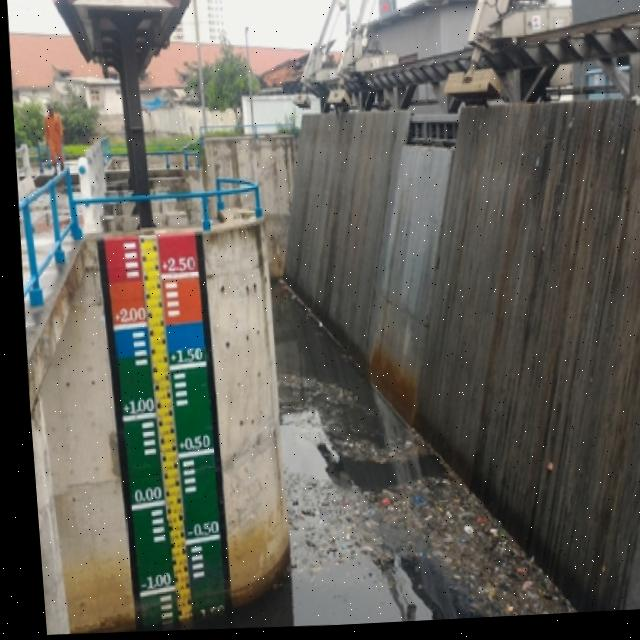water-meter: (83, 222, 247, 634)
